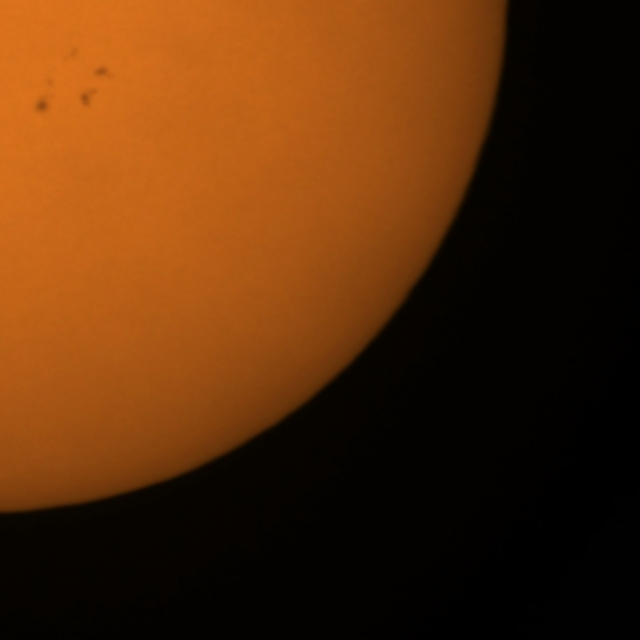sunspot: (75, 64, 112, 111), (33, 77, 57, 118), (77, 81, 102, 110), (32, 96, 52, 118), (60, 45, 81, 64)
